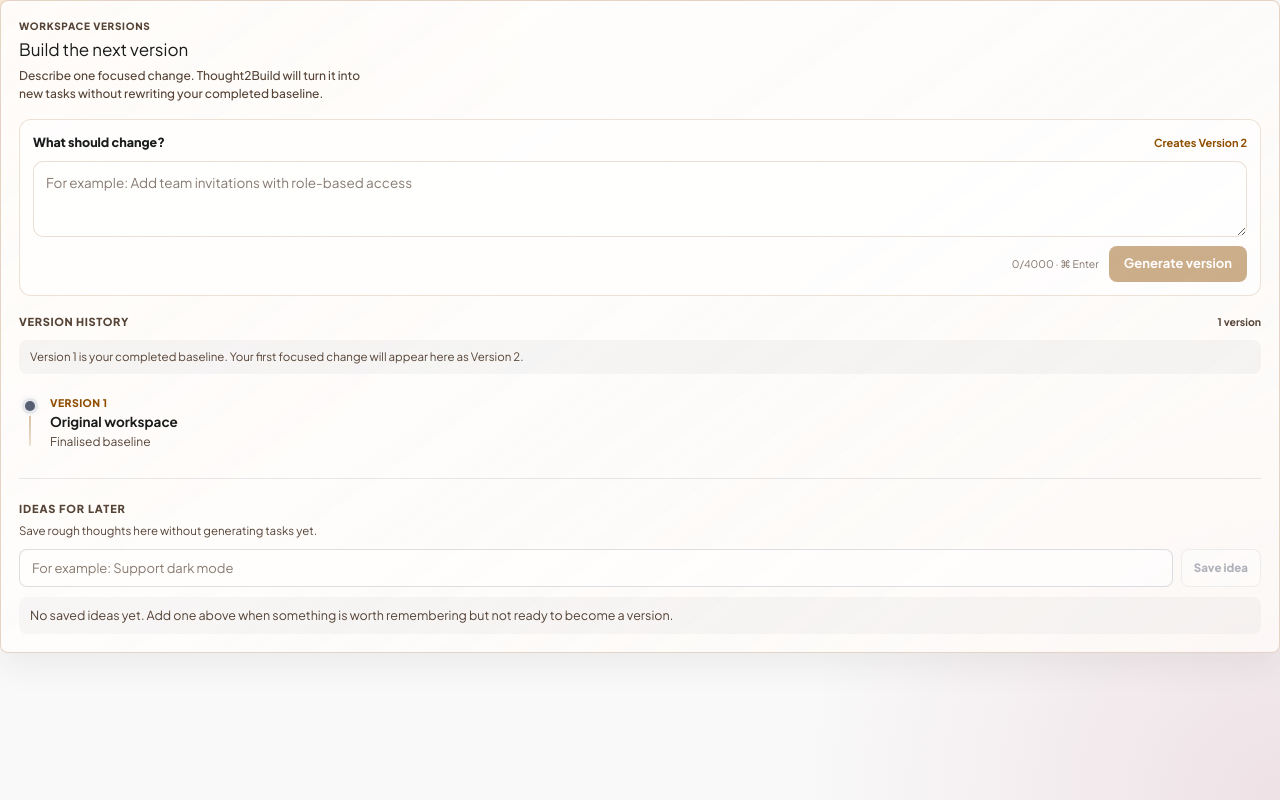
Scenario: IncrementTimeline › generates an increment from a feature request (additive) and refreshes
The image size is (1280, 800).
Type "Add a billing page with Stripe checkout" into the text box named "what should change in the next version" at (640, 199), box [33,161,1247,237]
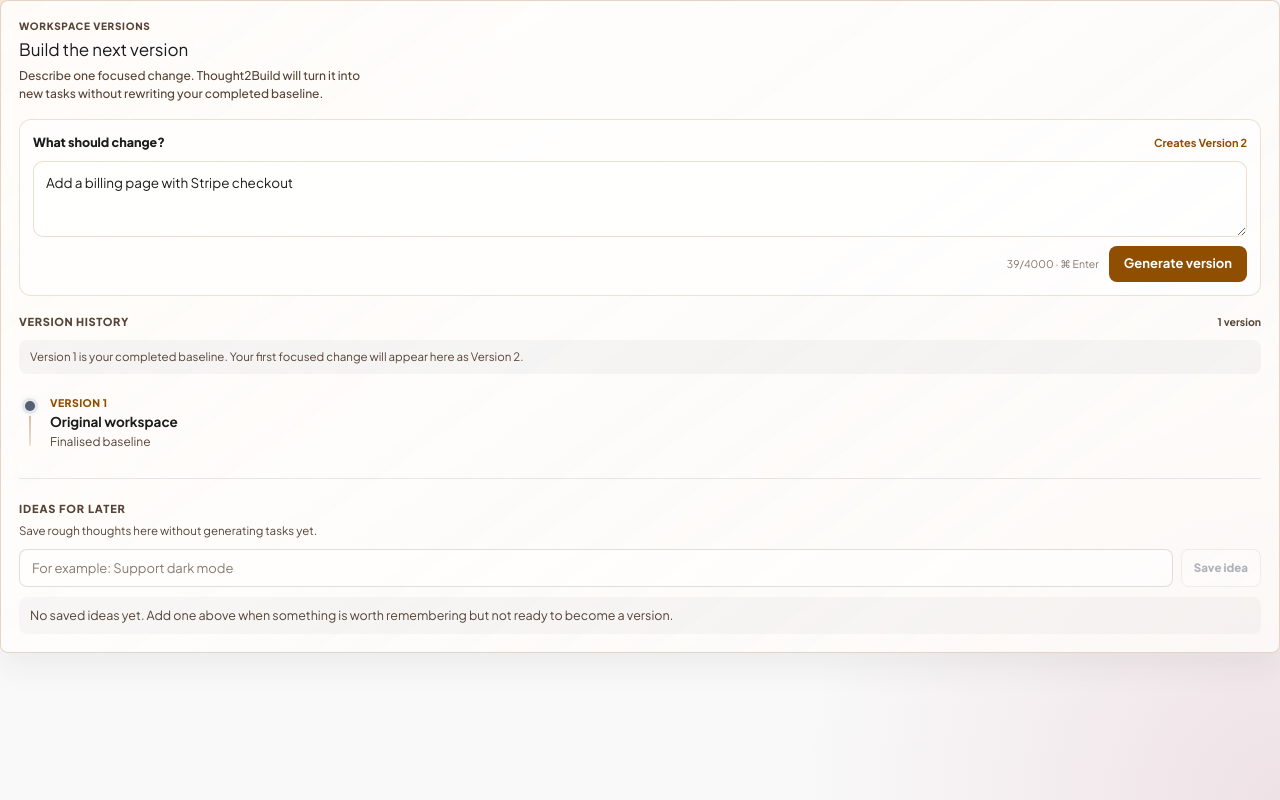
Click the button with aria-label "generate version 2" at (1178, 264), box [1109,246,1247,282]
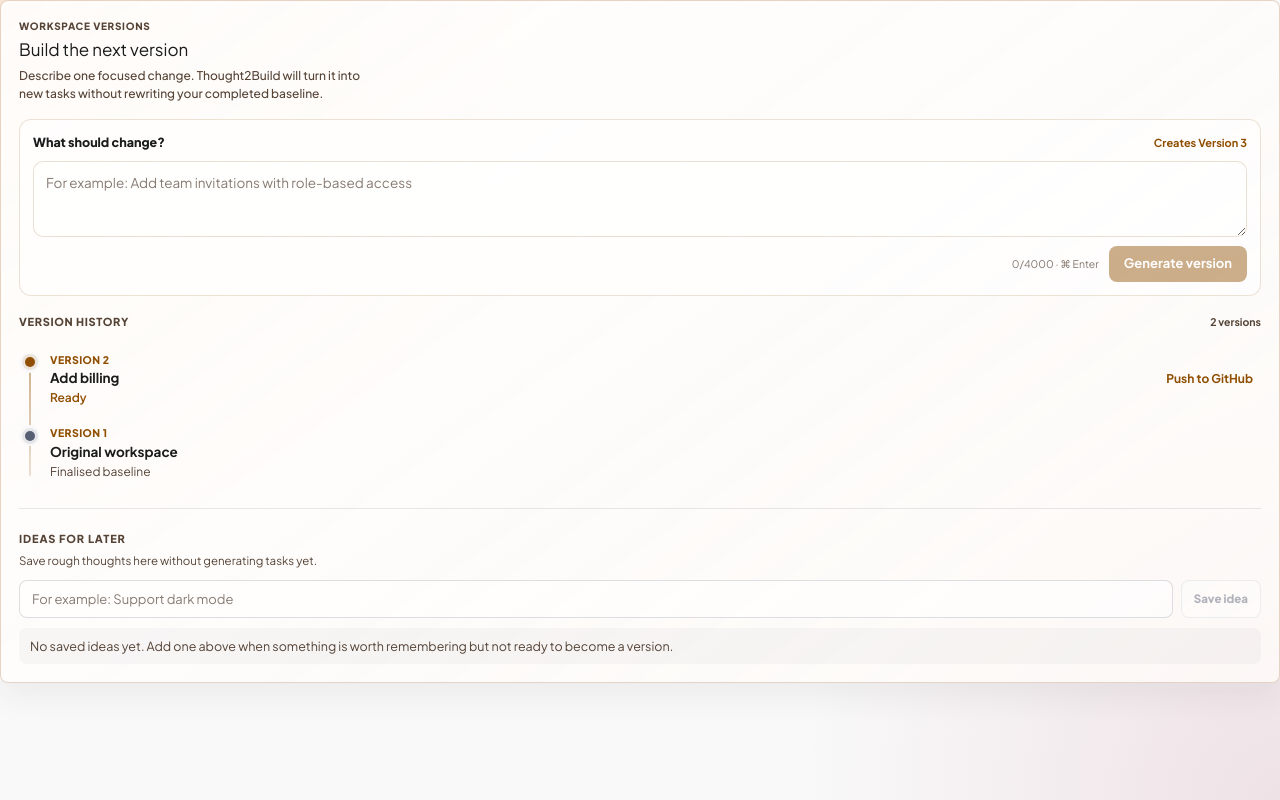
Now the text "Add billing" is shown, box [50,369,119,386]
